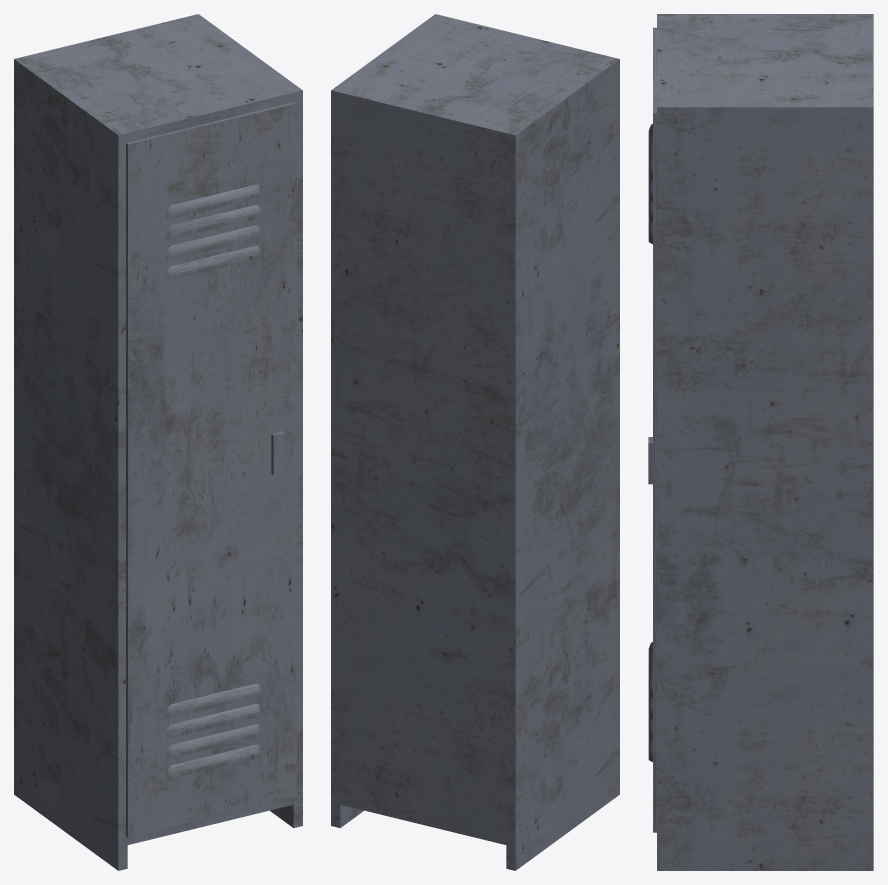
The model's file is Locker.fbx.
3 renders of one model, left to right at view 1: azimuth 30°, elevation 25°; view 2: azimuth 150°, elevation 25°; view 3: azimuth 270°, elevation 25°, orthographic. The views are drawn at different scales.
Parts seen in each view (by area): view 1: Cube.045, Cube.044; view 2: Cube.044; view 3: Cube.044, Cube.045.
Part boxes in pixels (x1,y1,x2,y2): Cube.045: (126,102,296,837); Cube.044: (14,14,302,870); Cube.044: (331,14,619,870); Cube.044: (657,14,873,870); Cube.045: (648,27,656,832).
Size of the model in its own units: 121 by 459 by 123.
